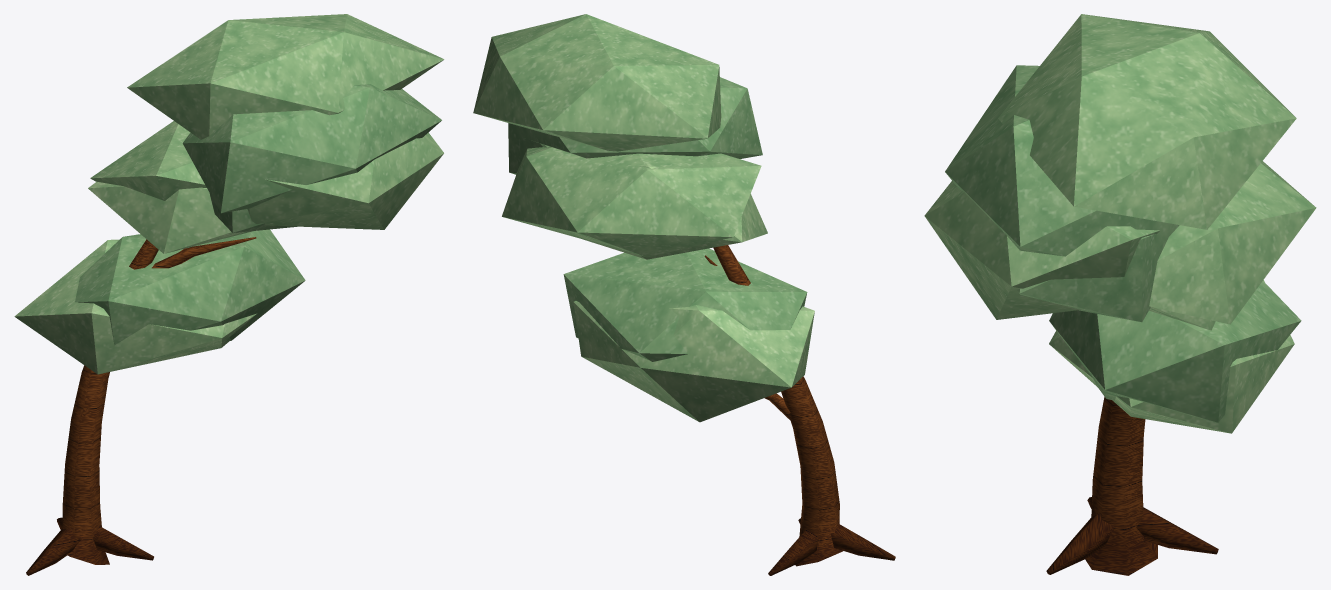
File: tree_cloud_c.glb
3 views of the same model, side by side, from view 1: azimuth 30°, elevation 25°; view 2: azimuth 150°, elevation 25°; view 3: azimuth 270°, elevation 25° (orthographic). The views are drawn at different scales.
Parts seen in each view (by area): view 1: tree_cloud_c; view 2: tree_cloud_c; view 3: tree_cloud_c.
Part boxes in pixels (box(x1,y1,x2,y2)): tree_cloud_c: box(14, 14, 444, 575); tree_cloud_c: box(473, 14, 895, 575); tree_cloud_c: box(924, 14, 1316, 575).
Size of the model in its own units: 7.03 by 7.85 by 4.32.
2 materials, 2 textured.
